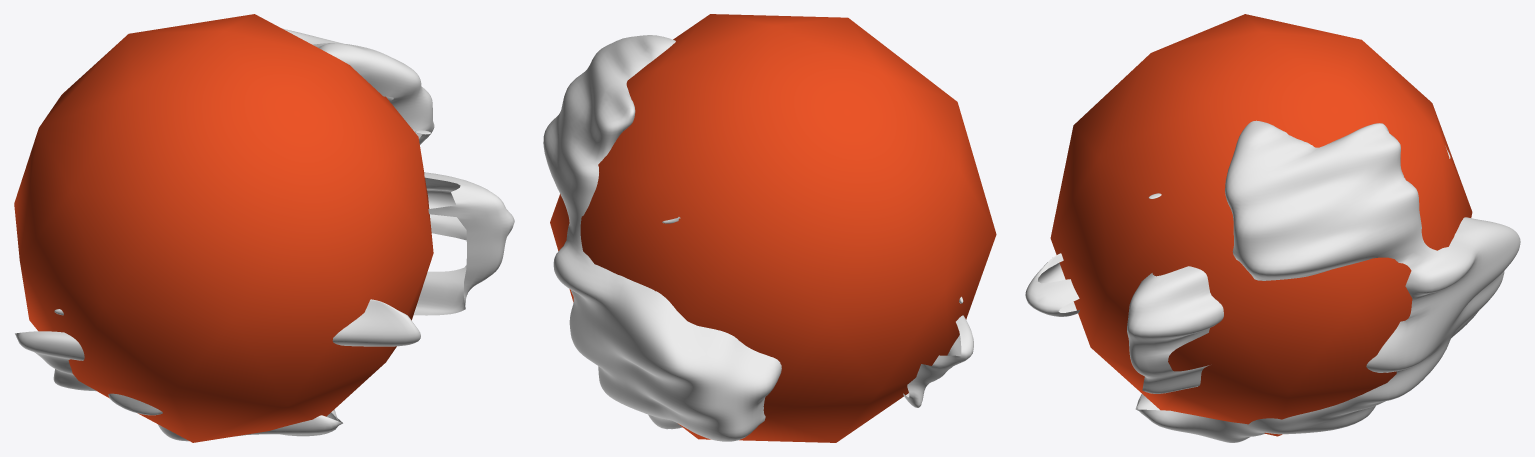
Rendered from planet4.fbx.
3 views of the same model, side by side, from view 1: azimuth 30°, elevation 25°; view 2: azimuth 150°, elevation 25°; view 3: azimuth 270°, elevation 25° (orthographic). The views are drawn at different scales.
Parts seen in each view (by area): view 1: Cube; view 2: Cube; view 3: Cube.
Part boxes in pixels (x1,y1,x2,y2): Cube: (14, 14, 514, 442); Cube: (543, 14, 996, 442); Cube: (1025, 14, 1520, 442).
Size of the model in its own units: 214 by 190 by 221.
